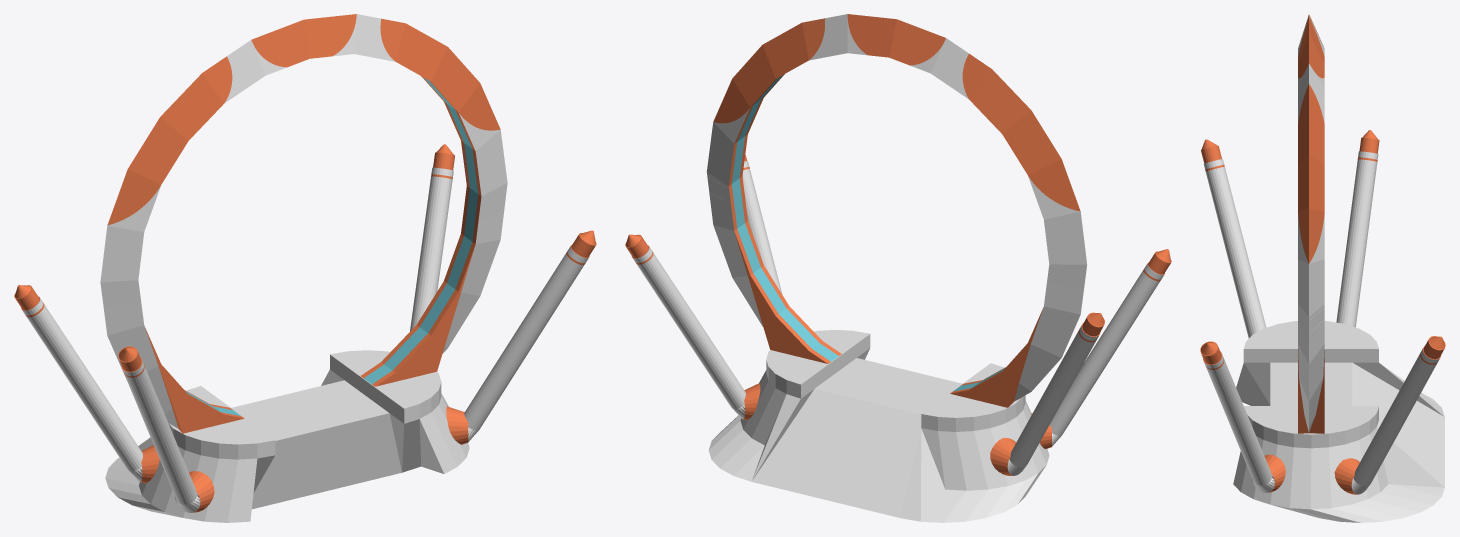
Rendered from warpgate.glb.
3 renders of one model, left to right at view 1: azimuth 30°, elevation 25°; view 2: azimuth 150°, elevation 25°; view 3: azimuth 270°, elevation 25°, orthographic. The views are drawn at different scales.
Parts seen in each view (by area): view 1: imagetostl_mesh1407, imagetostl_mesh109, imagetostl_mesh110, imagetostl_mesh111, imagetostl_mesh1270, imagetostl_mesh1269, imagetostl_mesh107, imagetostl_mesh86, imagetostl_mesh122, imagetostl_mesh106, imagetostl_mesh1343, imagetostl_mesh1345 (+22 smaller); view 2: imagetostl_mesh1406, imagetostl_mesh101, imagetostl_mesh100, imagetostl_mesh99, imagetostl_mesh103, imagetostl_mesh1331, imagetostl_mesh1330, imagetostl_mesh87, imagetostl_mesh1356, imagetostl_mesh86, imagetostl_mesh89, imagetostl_mesh1345 (+26 smaller); view 3: imagetostl_mesh1406, imagetostl_mesh1420, imagetostl_mesh86, imagetostl_mesh1345, imagetostl_mesh90, imagetostl_mesh92, imagetostl_mesh1395, imagetostl_mesh1346, imagetostl_mesh1350, imagetostl_mesh89, imagetostl_mesh1323, imagetostl_mesh1353 (+63 smaller).
Boxes of the visible parts, x1=… form: imagetostl_mesh1407: x1=252, y1=413, x2=401, y2=509; imagetostl_mesh109: x1=160, y1=73, x2=223, y2=140; imagetostl_mesh110: x1=128, y1=117, x2=188, y2=184; imagetostl_mesh111: x1=100, y1=225, x2=144, y2=282; imagetostl_mesh1270: x1=376, y1=248, x2=474, y2=386; imagetostl_mesh1269: x1=145, y1=328, x2=243, y2=433; imagetostl_mesh107: x1=251, y1=19, x2=309, y2=67; imagetostl_mesh86: x1=231, y1=380, x2=359, y2=419; imagetostl_mesh122: x1=395, y1=23, x2=447, y2=81; imagetostl_mesh106: x1=304, y1=14, x2=356, y2=58; imagetostl_mesh1343: x1=247, y1=392, x2=374, y2=429; imagetostl_mesh1345: x1=262, y1=402, x2=389, y2=440; imagetostl_mesh1406: x1=751, y1=389, x2=921, y2=517; imagetostl_mesh101: x1=969, y1=69, x2=1031, y2=134; imagetostl_mesh100: x1=1002, y1=110, x2=1061, y2=174; imagetostl_mesh99: x1=1044, y1=211, x2=1086, y2=264; imagetostl_mesh103: x1=889, y1=19, x2=945, y2=65; imagetostl_mesh1331: x1=735, y1=233, x2=827, y2=363; imagetostl_mesh1330: x1=950, y1=309, x2=1042, y2=407; imagetostl_mesh87: x1=847, y1=14, x2=896, y2=57; imagetostl_mesh1356: x1=1031, y1=306, x2=1080, y2=357; imagetostl_mesh86: x1=815, y1=378, x2=934, y2=414; imagetostl_mesh89: x1=762, y1=23, x2=808, y2=78; imagetostl_mesh1345: x1=843, y1=358, x2=962, y2=393; imagetostl_mesh1406: x1=1352, y1=363, x2=1444, y2=487; imagetostl_mesh1420: x1=1377, y1=427, x2=1444, y2=487; imagetostl_mesh86: x1=1324, y1=362, x2=1352, y2=405; imagetostl_mesh1345: x1=1270, y1=362, x2=1296, y2=405; imagetostl_mesh90: x1=1309, y1=154, x2=1324, y2=211; imagetostl_mesh92: x1=1309, y1=259, x2=1324, y2=316; imagetostl_mesh1395: x1=1236, y1=363, x2=1270, y2=405; imagetostl_mesh1346: x1=1324, y1=349, x2=1378, y2=362; imagetostl_mesh1350: x1=1243, y1=349, x2=1297, y2=362; imagetostl_mesh89: x1=1309, y1=105, x2=1324, y2=165; imagetostl_mesh1323: x1=1324, y1=406, x2=1378, y2=420; imagetostl_mesh1353: x1=1324, y1=334, x2=1378, y2=348.
Size of the model in its own units: 304 by 272 by 145.
